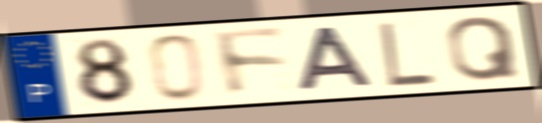0: (144, 31, 211, 104)
8: (73, 36, 138, 107)
A: (295, 24, 377, 94)
F: (210, 26, 291, 100)
L: (376, 20, 439, 88)
Q: (445, 14, 523, 84)
